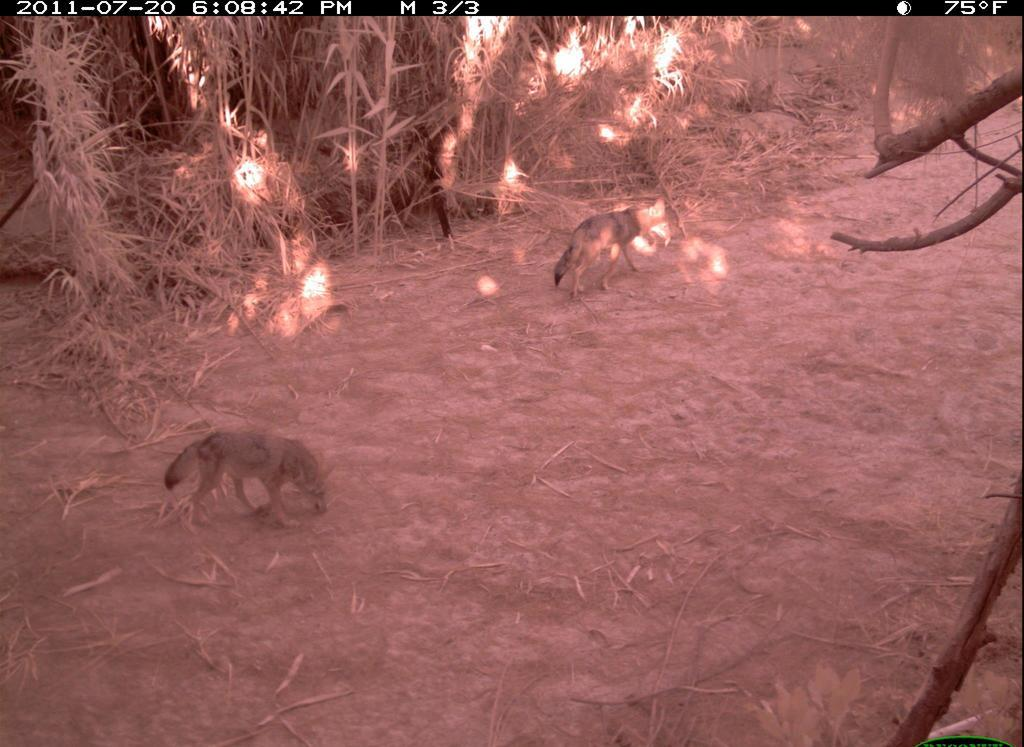coyote: (166, 416, 337, 540), (552, 186, 683, 303)
